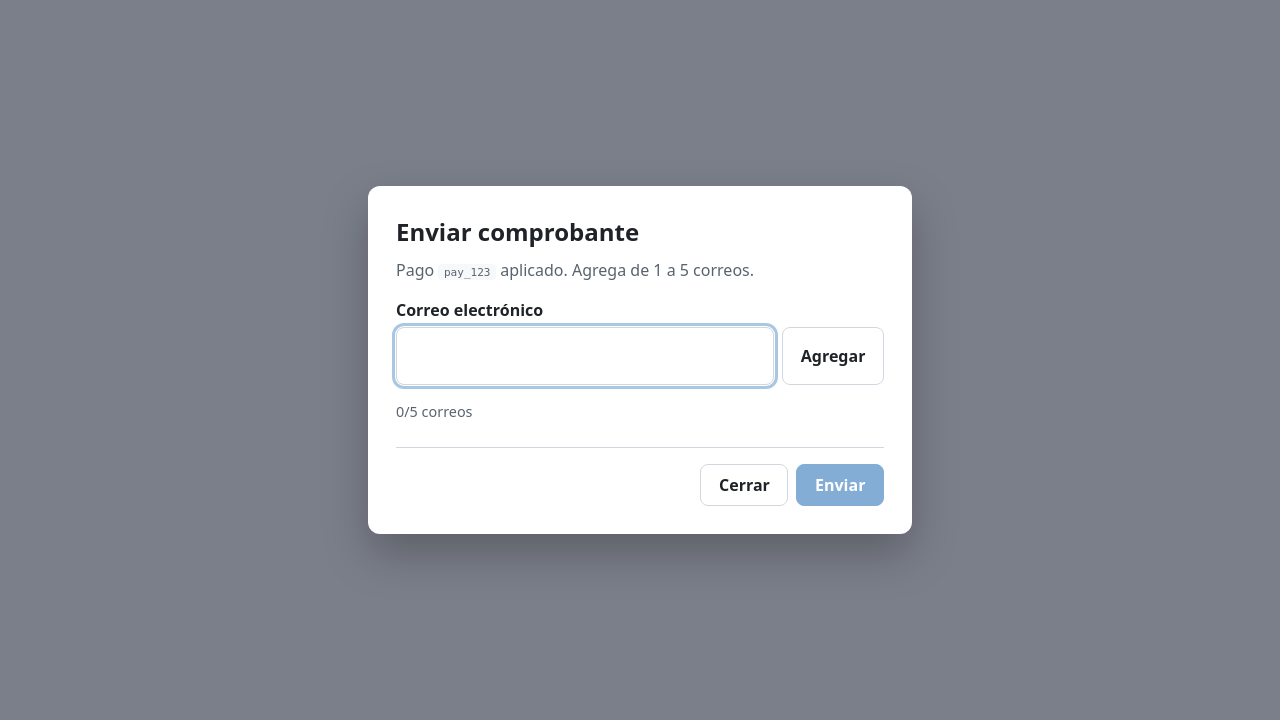
Test case: ReceiptModal: validación de correos › agrega correos válidos normalizados y rechaza duplicados
Step 1. Type "  Ana@Example.com " into the field labelled "Correo electrónico" → point(585, 356), box [396,328,774,386]
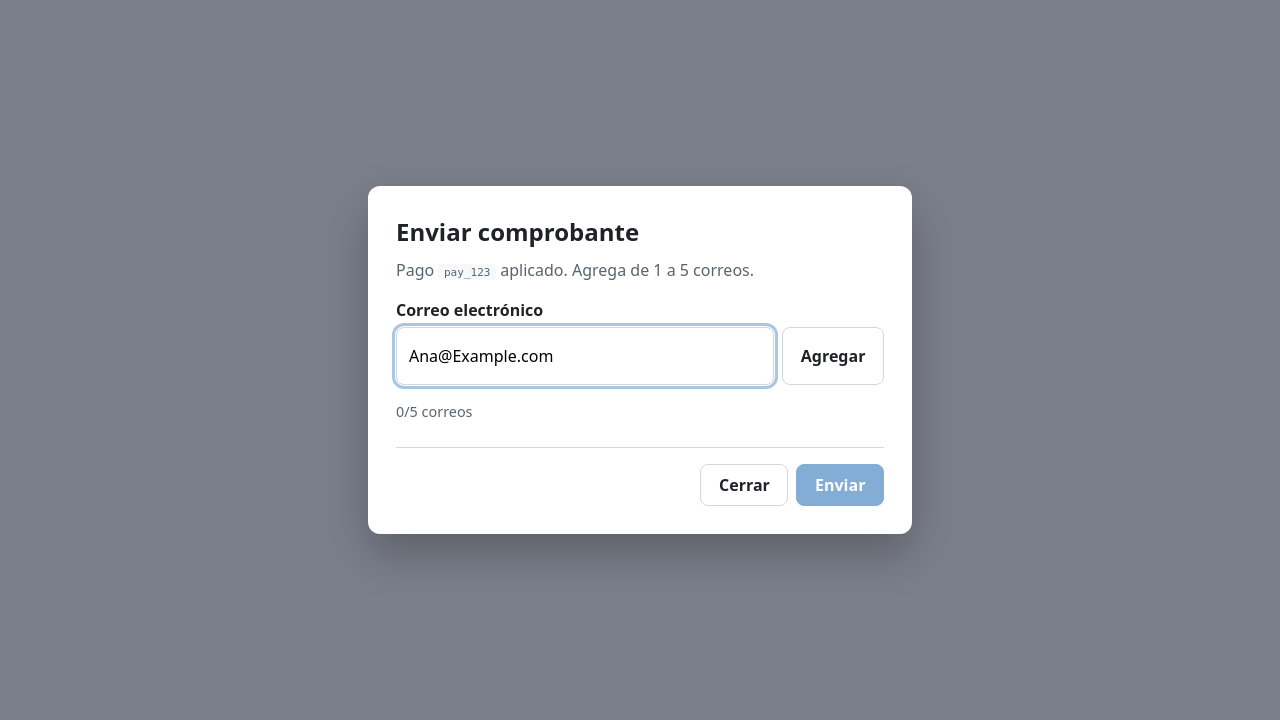
Step 2. Click the button "Agregar" → point(833, 356), box [782,328,884,386]
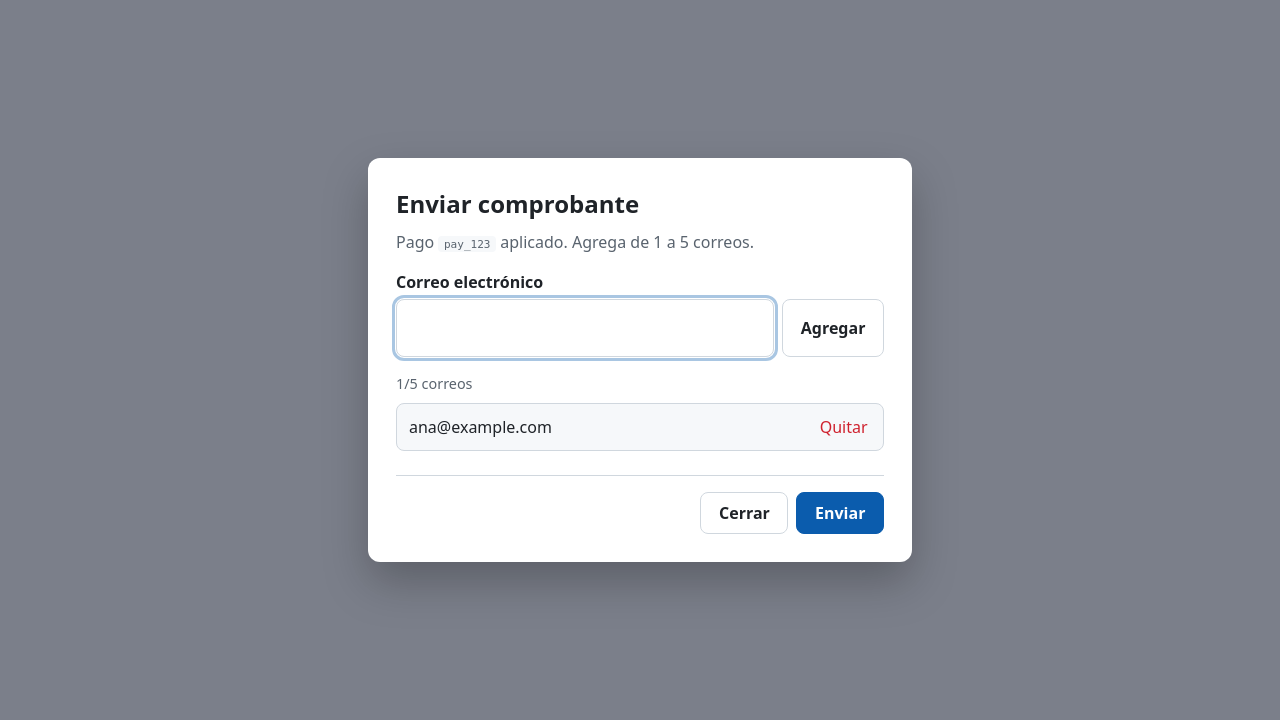
Step 3. Type "ana@example.com" into the field labelled "Correo electrónico" → point(585, 328), box [396,299,774,357]
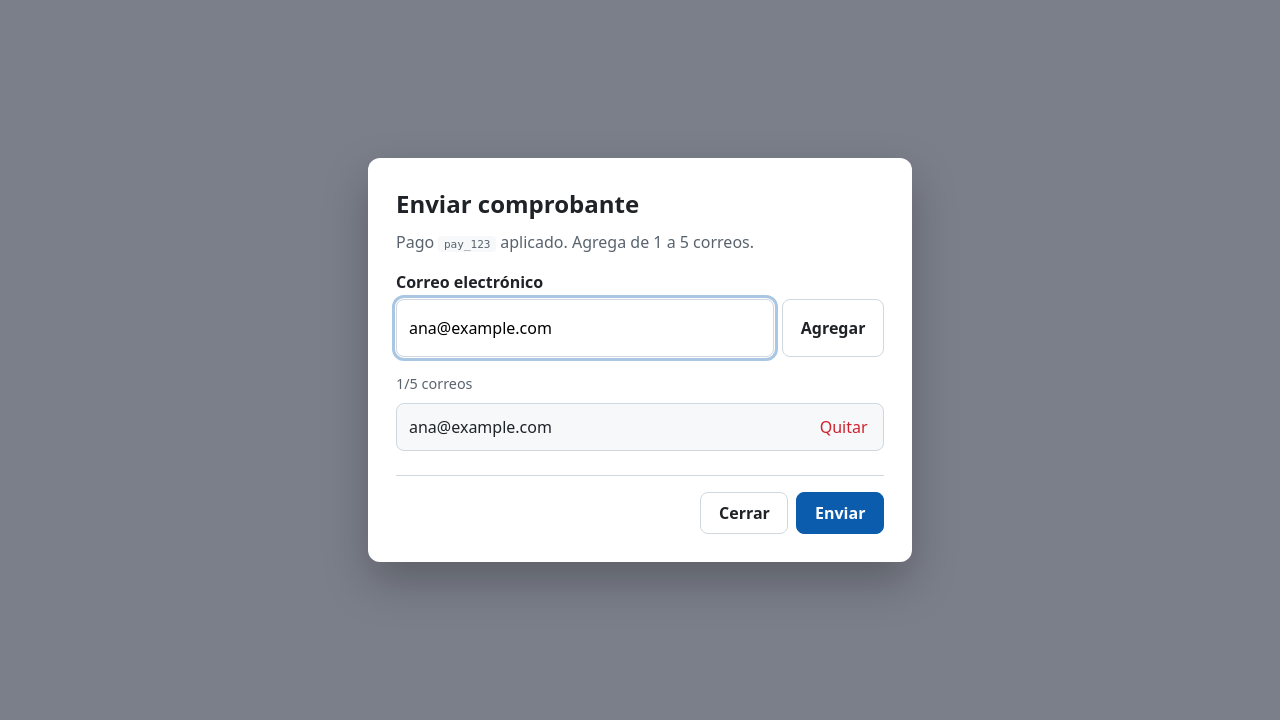
Step 4. Click the button "Agregar" → point(833, 328), box [782,299,884,357]
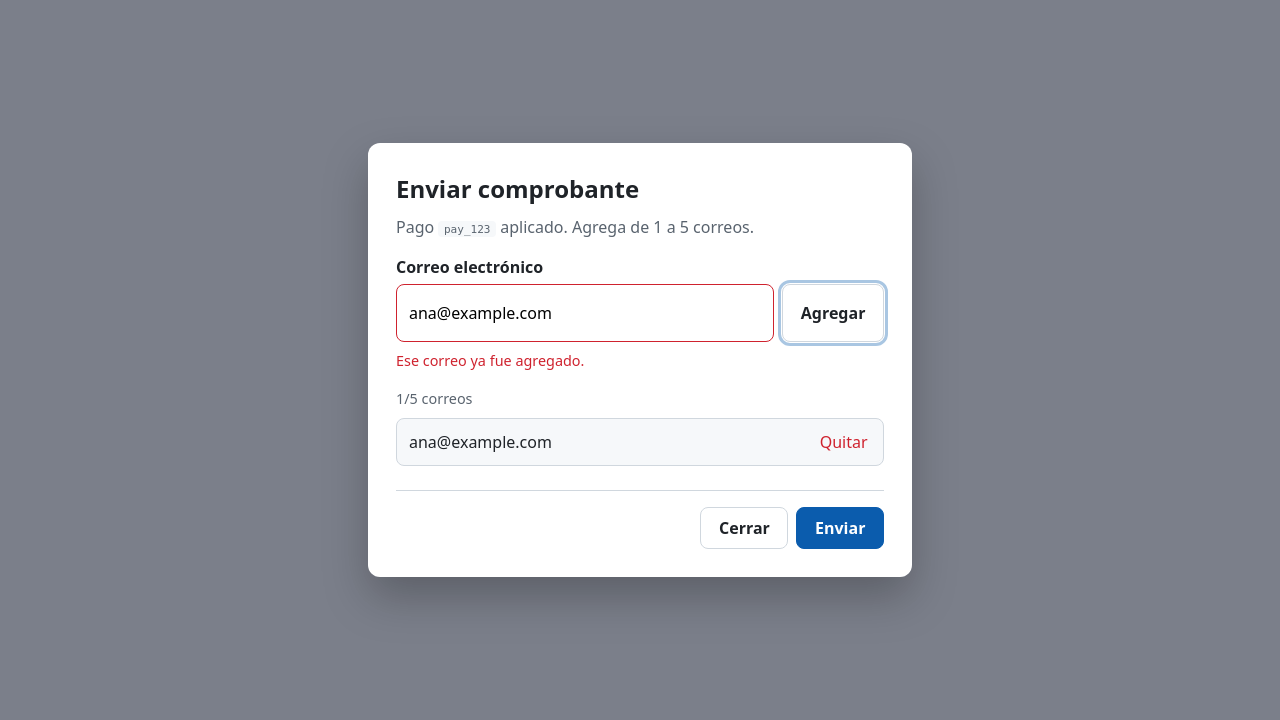
Now the number of list items is 1, box [396,418,884,466]
Now the text "ana@example.com" is shown, box [409,430,552,454]
Now the message reads "Ese correo ya fue agregado.", box [396,351,584,370]
